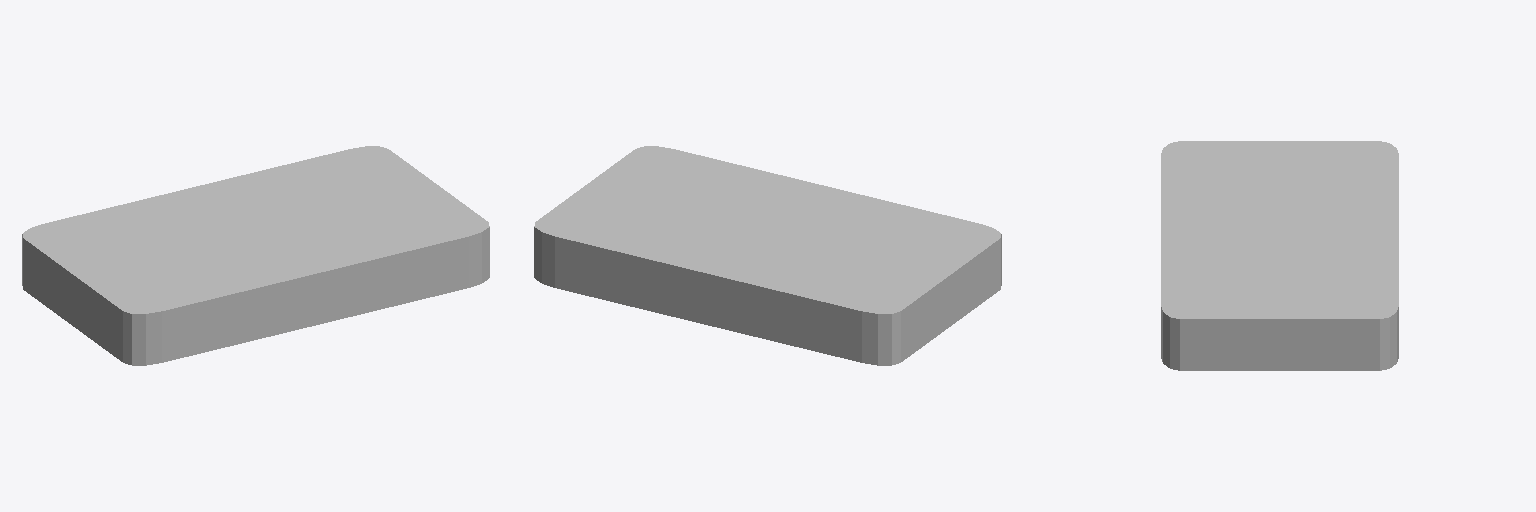
The model's file is Plaque1.obj.
3 renders of one model, left to right at view 1: azimuth 30°, elevation 25°; view 2: azimuth 150°, elevation 25°; view 3: azimuth 270°, elevation 25°, orthographic.
Parts seen in each view (by area): view 1: Plaque; view 2: Plaque; view 3: Plaque.
Boxes of the visible parts, x1,y1,x2,y2 form: Plaque: [22, 146, 489, 365]; Plaque: [534, 146, 1001, 365]; Plaque: [1161, 141, 1398, 370].
Size of the model in its own units: 0.0454 by 0.0061 by 0.0257.